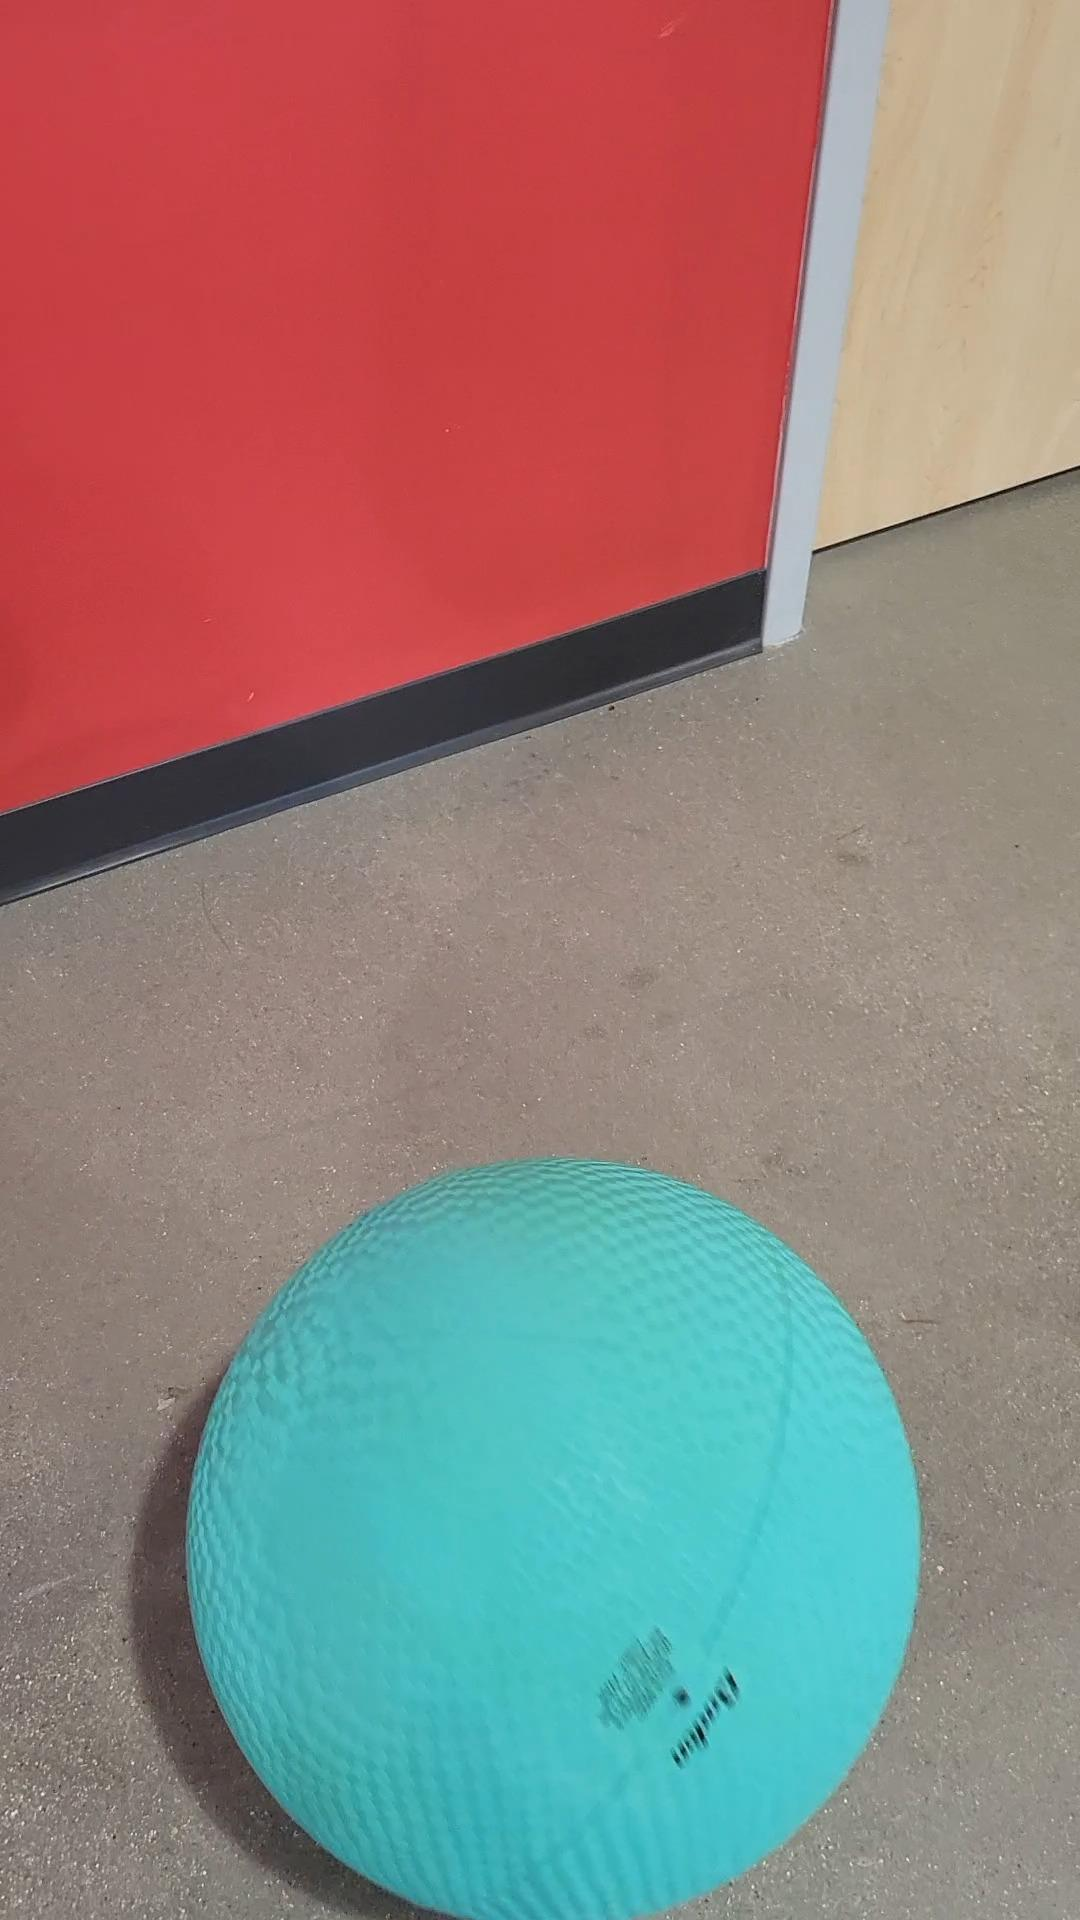algae: (191, 1166, 918, 1920)
